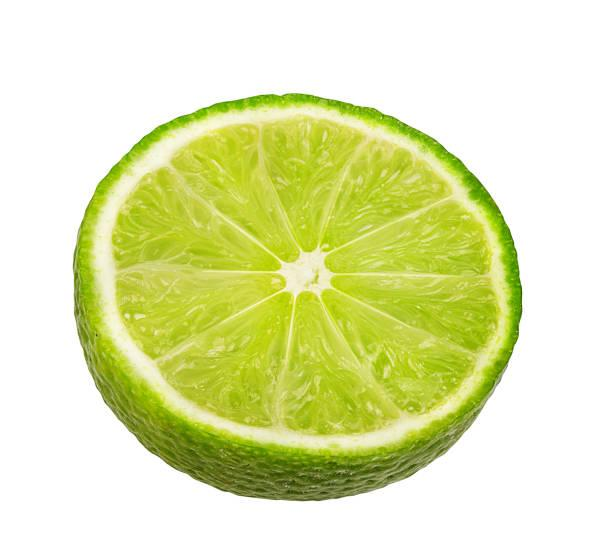lime: (69, 64, 540, 499)
